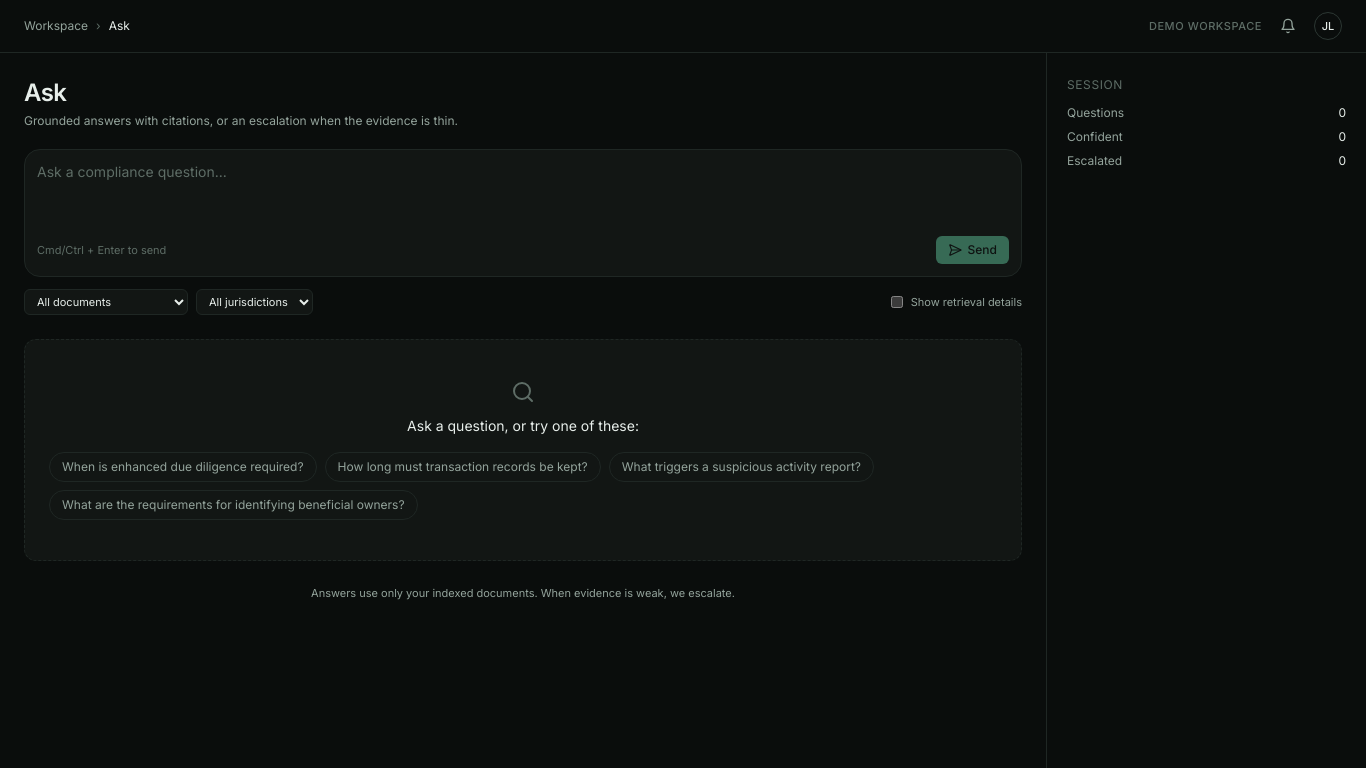
it: AskPage › renders the low_confidence warning banner and escalate button
Type "low signal question" into the text box labelled "Ask a compliance question..." at (523, 192), box x1=37 y1=162 x2=1009 y2=222
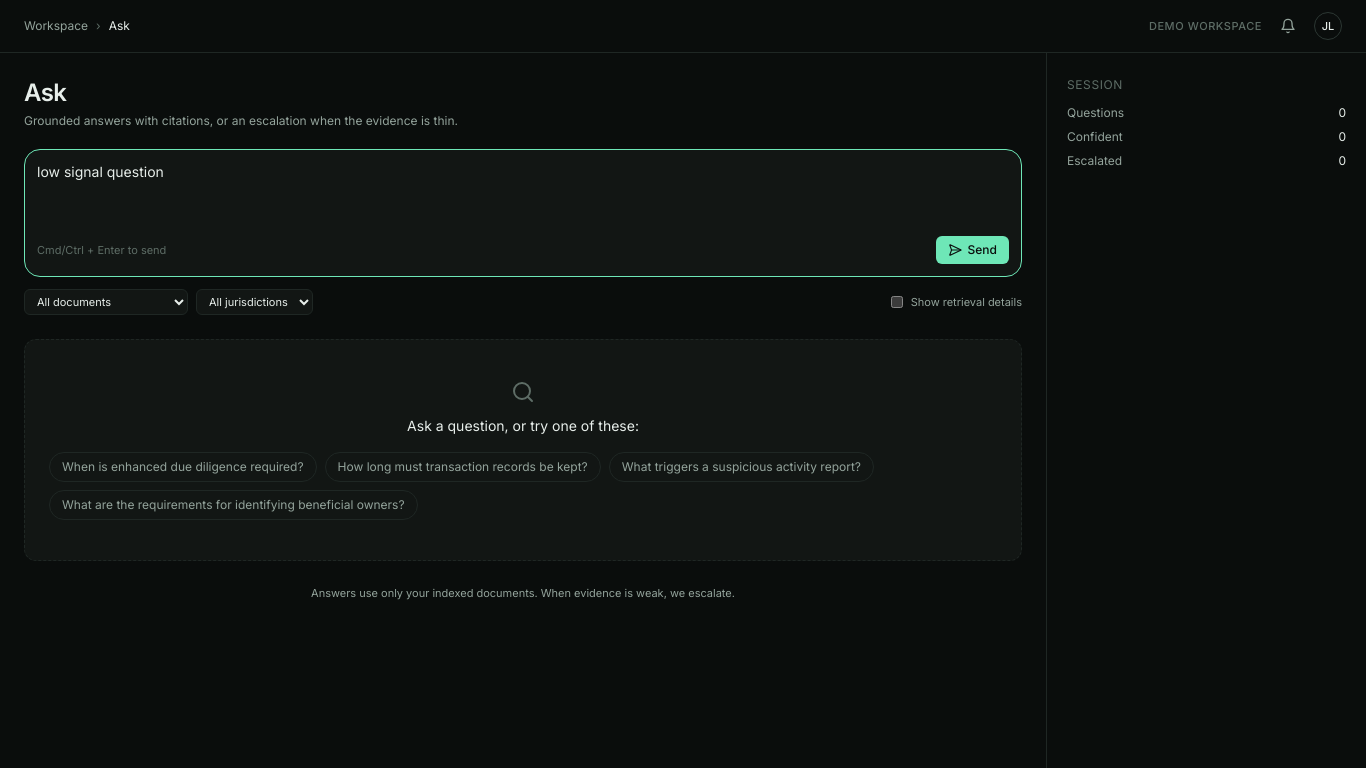
Click the button with aria-label "send question" at (972, 250), box x1=936 y1=236 x2=1009 y2=264
(page scrolled)
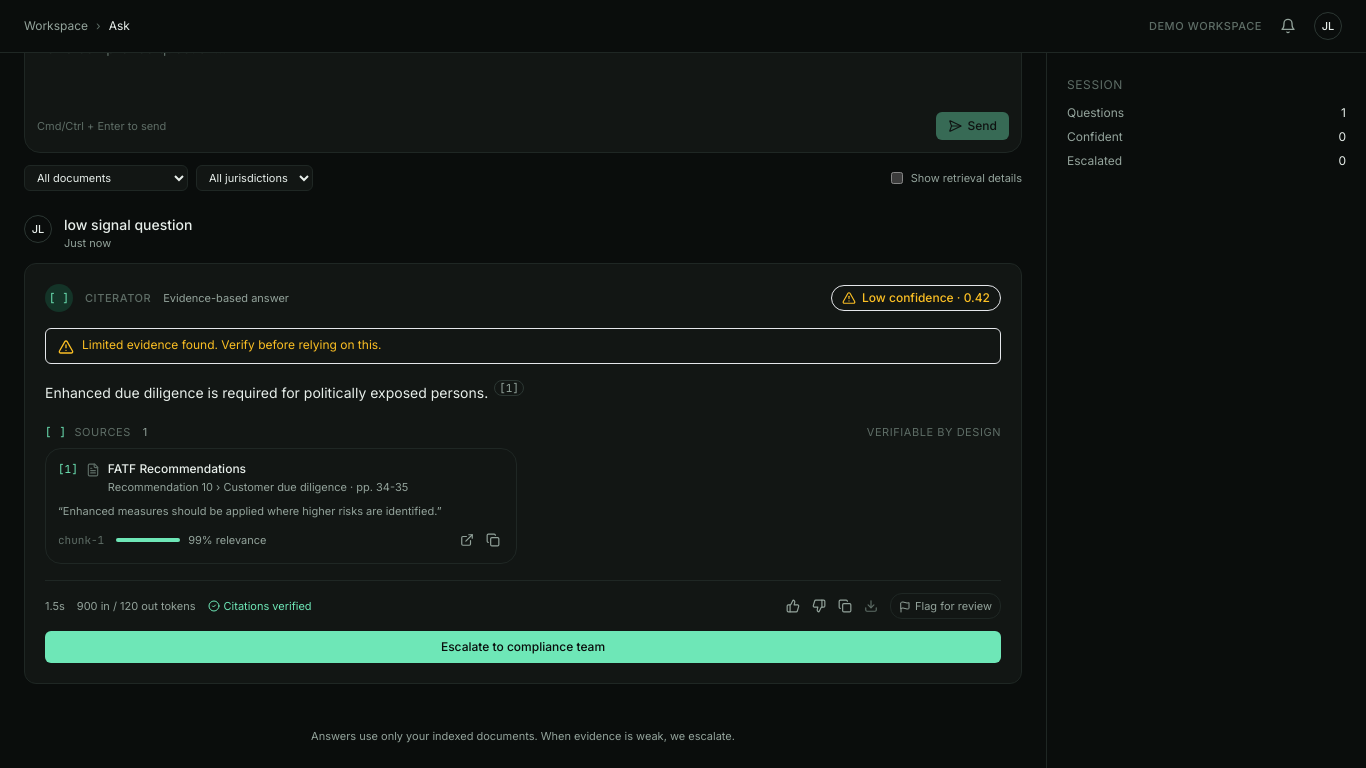
Now the text "Limited evidence found. Verify before relying on this." is shown, box x1=82 y1=337 x2=382 y2=353
Now the button "Escalate to compliance team" is shown, box x1=45 y1=631 x2=1001 y2=663
